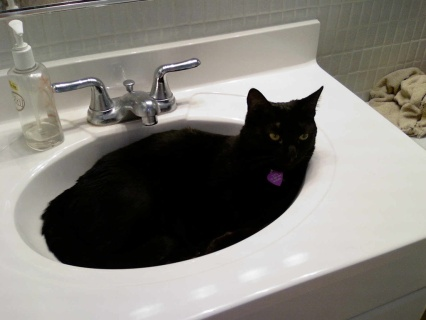Cat: (37, 81, 322, 274)
